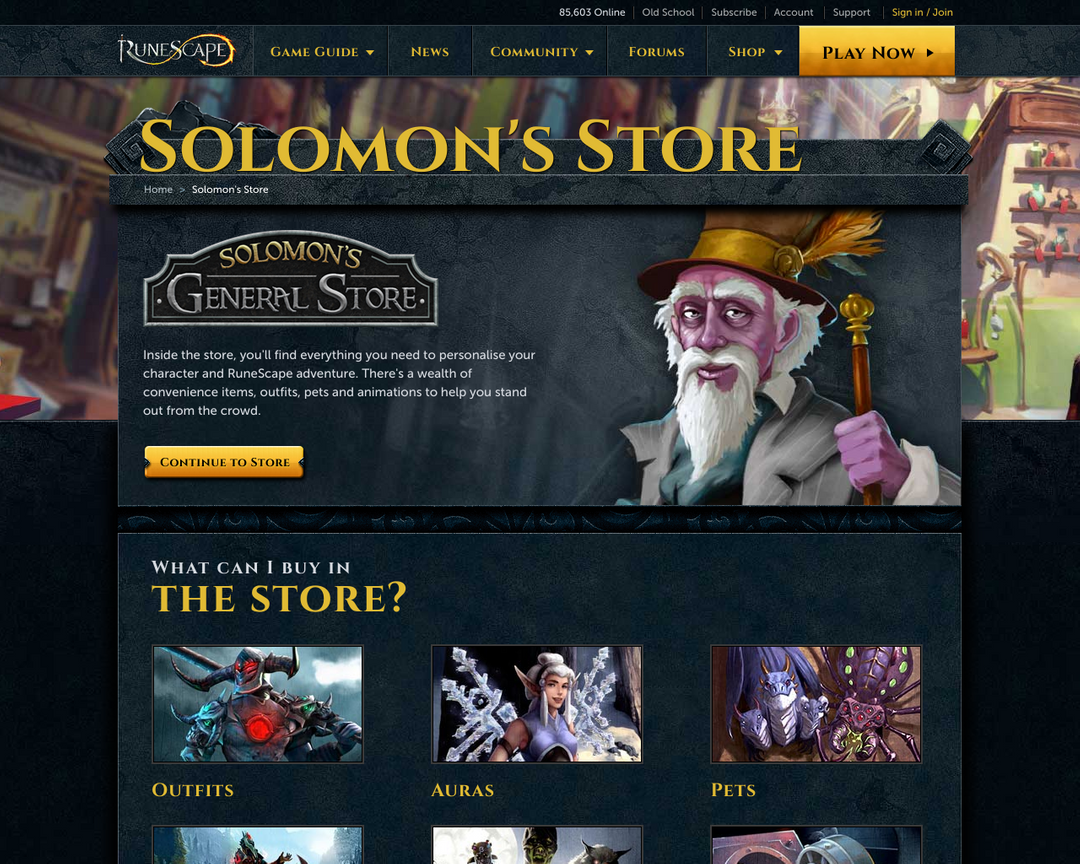Runescape: (118, 28, 238, 70)
